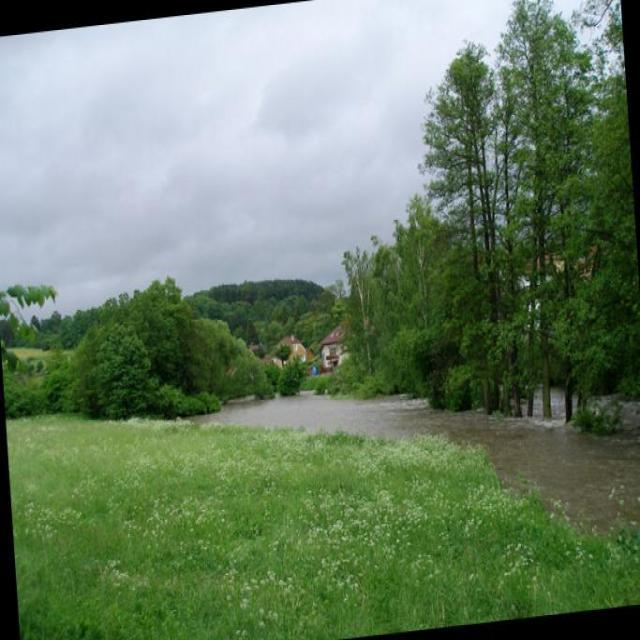flood: (178, 345, 639, 590)
